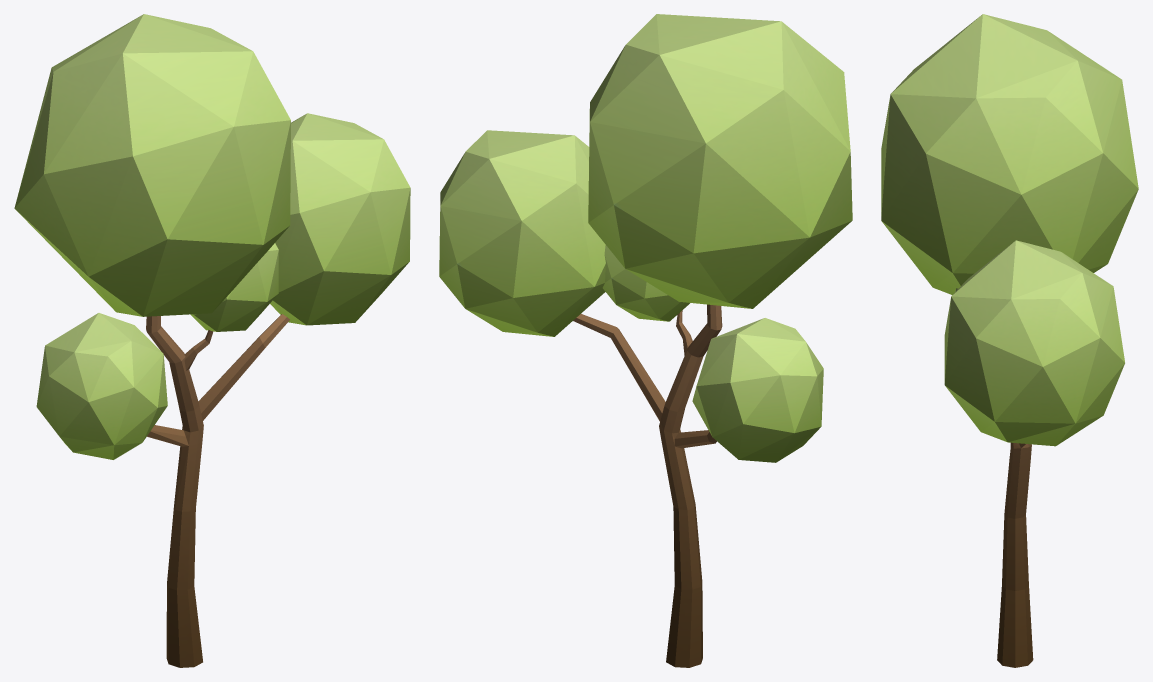
The model's file is ZLP_Plant_I_1.FBX.
The picture shows the model from 3 angles, left to right: view 1: azimuth 30°, elevation 25°; view 2: azimuth 150°, elevation 25°; view 3: azimuth 270°, elevation 25°; orthographic projection. The views are drawn at different scales.
Parts seen in each view (by area): view 1: ZLP_Plant_I_1; view 2: ZLP_Plant_I_1; view 3: ZLP_Plant_I_1.
Boxes of the visible parts, x1,y1,x2,y2 form: ZLP_Plant_I_1: (14,14,410,667); ZLP_Plant_I_1: (439,14,852,667); ZLP_Plant_I_1: (881,14,1138,667).
Size of the model in its own units: 123 by 198 by 75.86.
